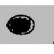correct: (5, 8, 38, 38)
